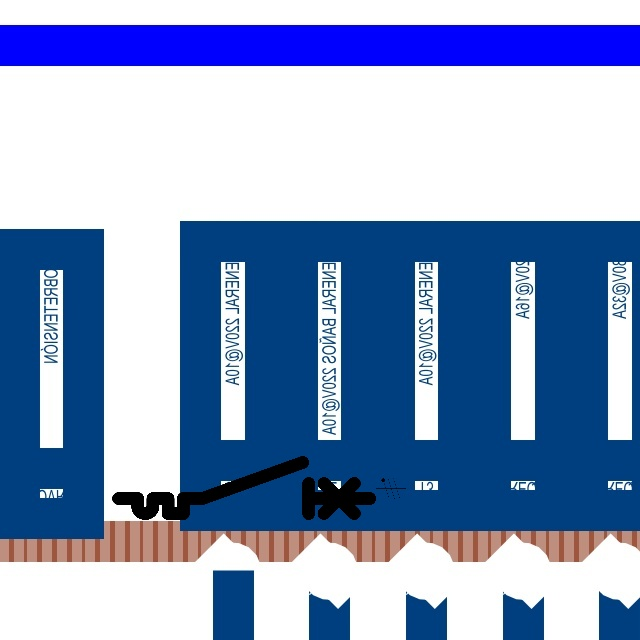interruptor_termomagnetico: (112, 456, 376, 520)
